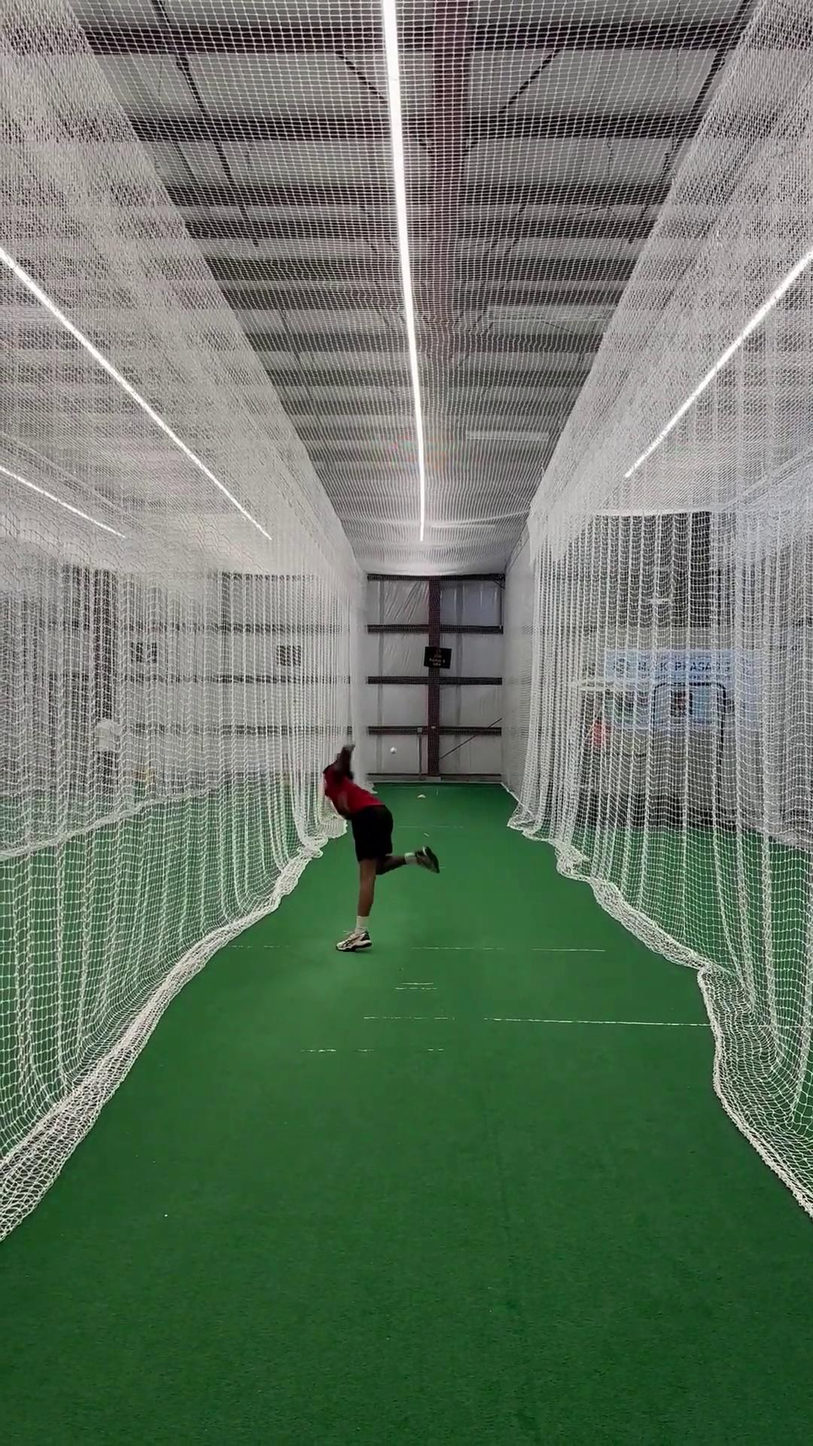ball: (387, 745, 401, 757)
